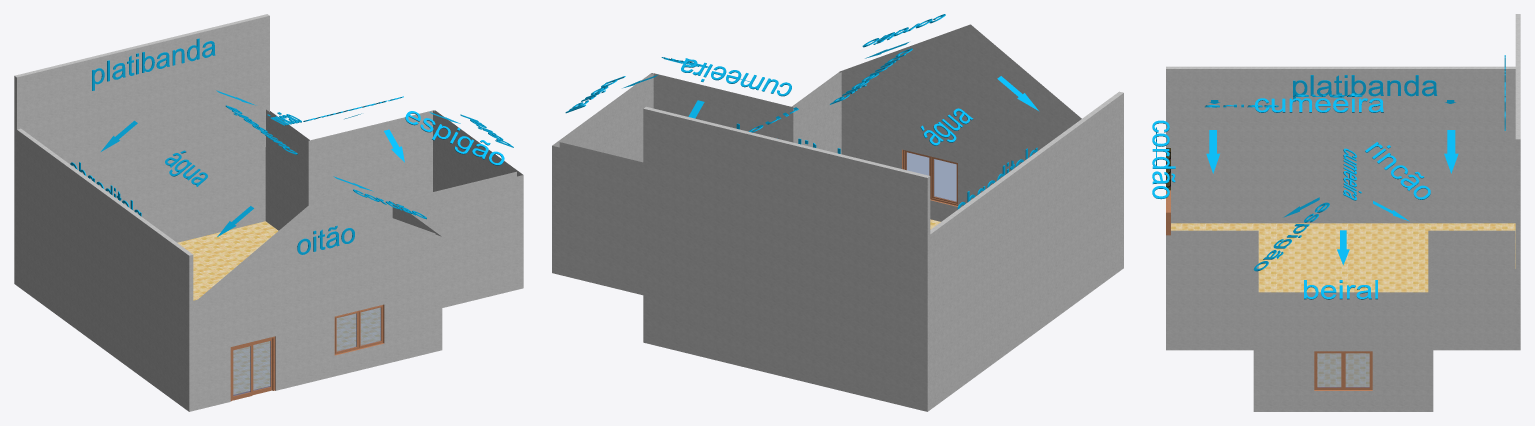
Rendered from casaa.gltf.
3 renders of one model, left to right at view 1: azimuth 30°, elevation 25°; view 2: azimuth 150°, elevation 25°; view 3: azimuth 270°, elevation 25°, orthographic. The views are drawn at different scales.
Parts seen in each view (by area): view 1: root; view 2: root; view 3: root.
Part boxes in pixels (bbox=[...]): root: bbox=[14, 14, 523, 411]; root: bbox=[552, 14, 1123, 411]; root: bbox=[1152, 14, 1520, 411].
Size of the model in its own units: 15.8 by 8 by 12.65.
8 materials, 4 textured.
